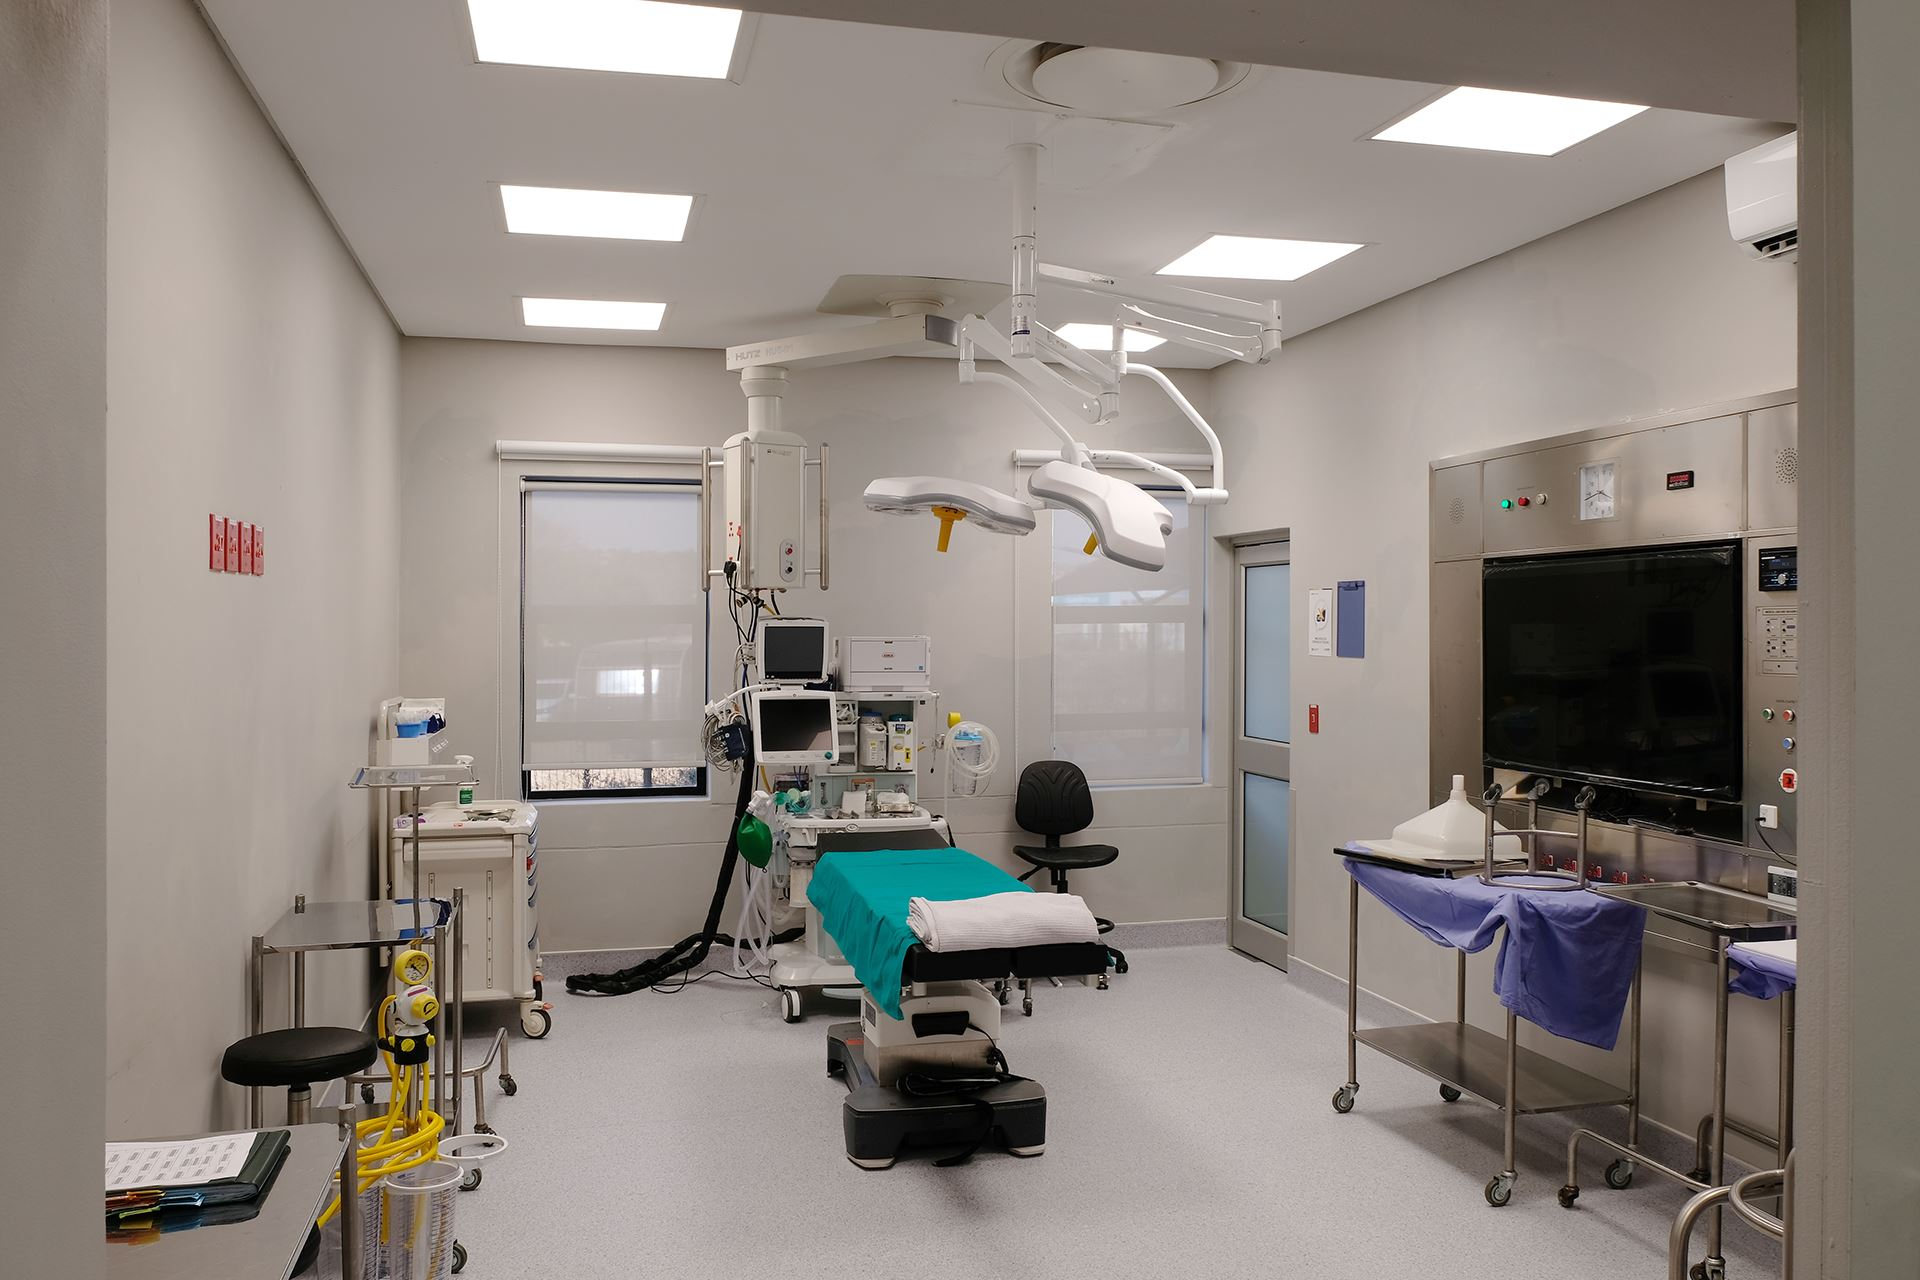TV: (1477, 539, 1756, 841)
bedside_monitor: (749, 691, 840, 767), (751, 619, 826, 689)
breathing_tube: (730, 867, 774, 970)
chair: (1013, 756, 1131, 971), (219, 1029, 381, 1130)
medical_drawer: (389, 793, 550, 1039), (846, 630, 931, 701)
operating_bed: (807, 831, 1114, 1171)
surgical_light: (1029, 459, 1173, 573), (864, 473, 1030, 556)
table: (101, 1119, 339, 1280)
utility_cart: (1327, 839, 1641, 1209), (1569, 880, 1804, 1280), (250, 899, 479, 1204)
ventilator: (729, 691, 924, 991)
